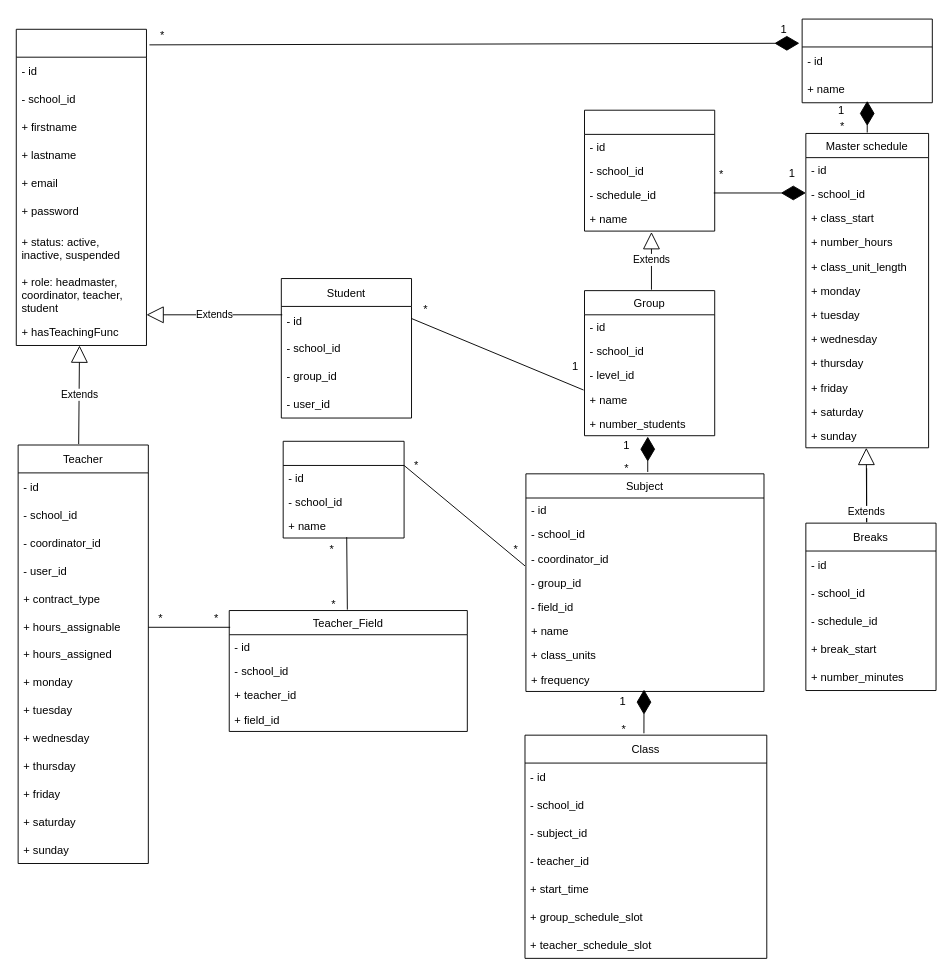
Some shapes in this 952 by 975 pixel diagram are drawn without their labels. The shapes that lost their labels are listed below. From the top down, each one's box as (x1, y1, x2, y2) in pixels, then its label:
(801, 18, 932, 103): School
(15, 28, 146, 345): User
(584, 109, 715, 231): Level / Semester
(282, 440, 404, 538): Field
